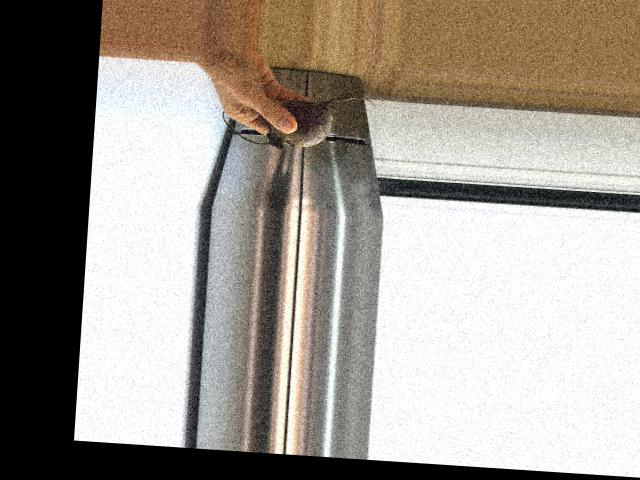beet: (221, 87, 377, 154)
